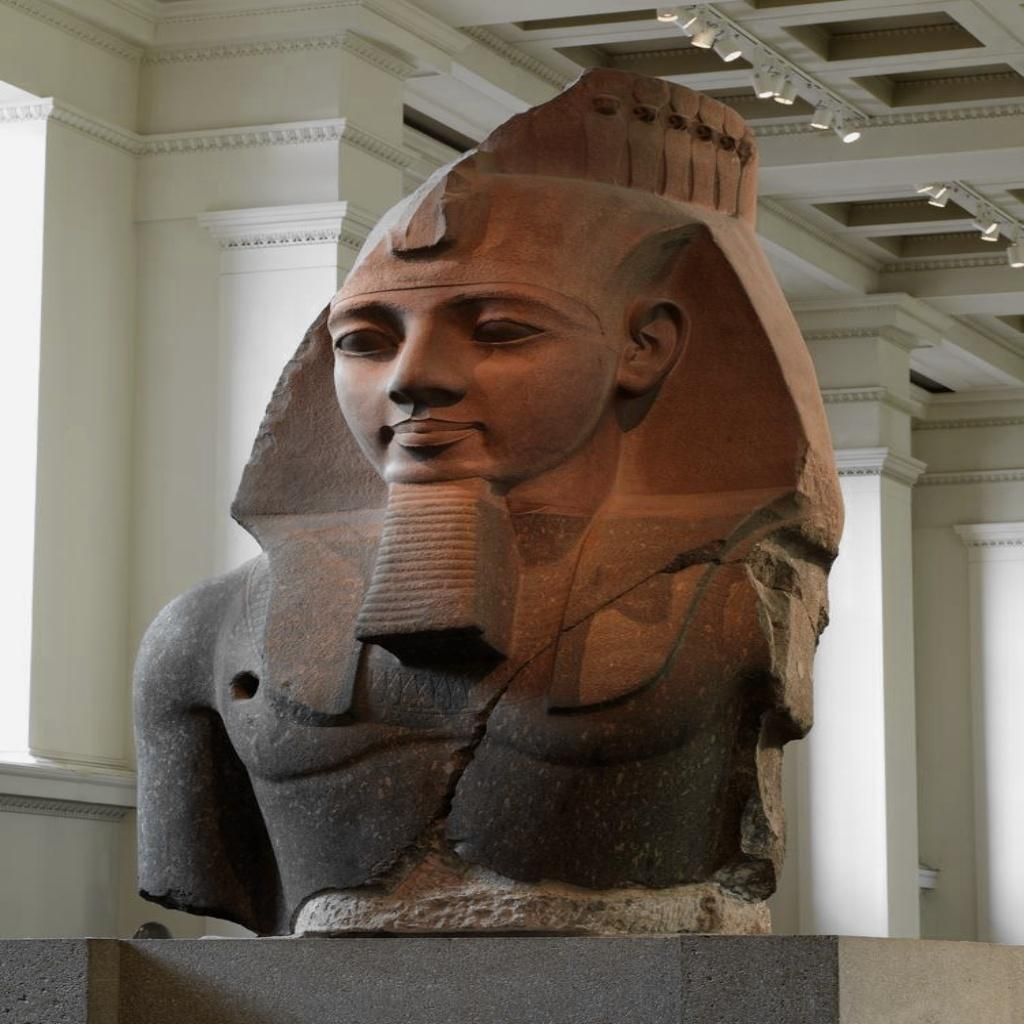bust of Ramesses II: (128, 66, 848, 936)
